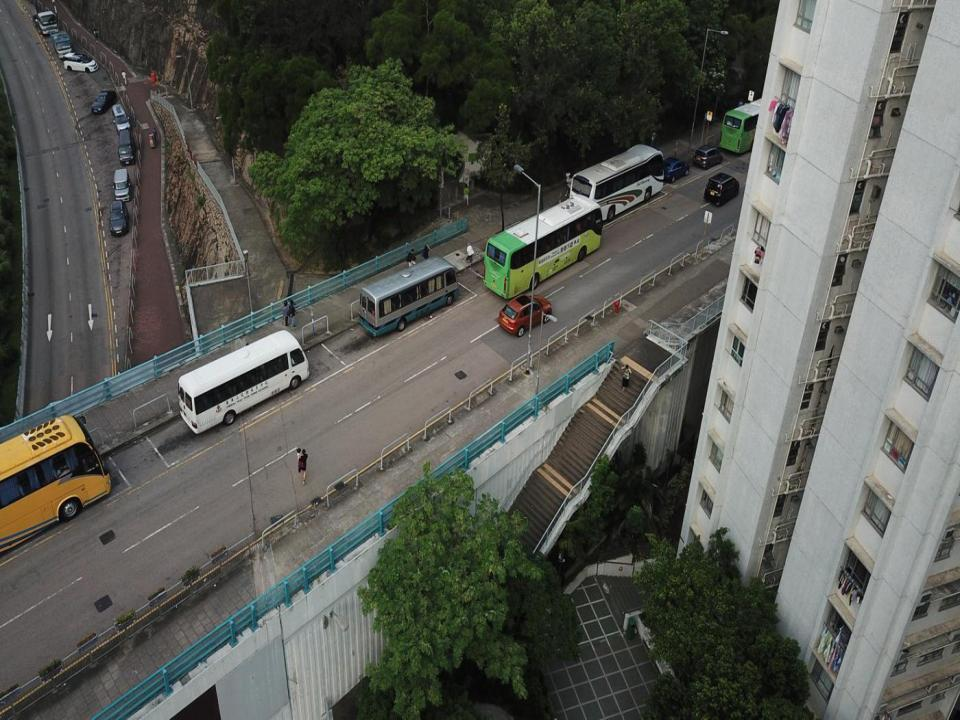bus: (1, 414, 111, 553), (178, 330, 309, 434), (482, 193, 602, 298), (358, 256, 459, 339), (568, 143, 664, 222), (718, 93, 783, 156)
car: (499, 294, 552, 338), (659, 157, 690, 184), (107, 199, 129, 235), (692, 145, 722, 170), (63, 52, 98, 72), (91, 91, 118, 115)
truck: (49, 28, 73, 60), (32, 9, 58, 36)
van: (704, 172, 738, 207), (111, 169, 132, 203), (117, 128, 135, 165), (111, 103, 130, 136)
